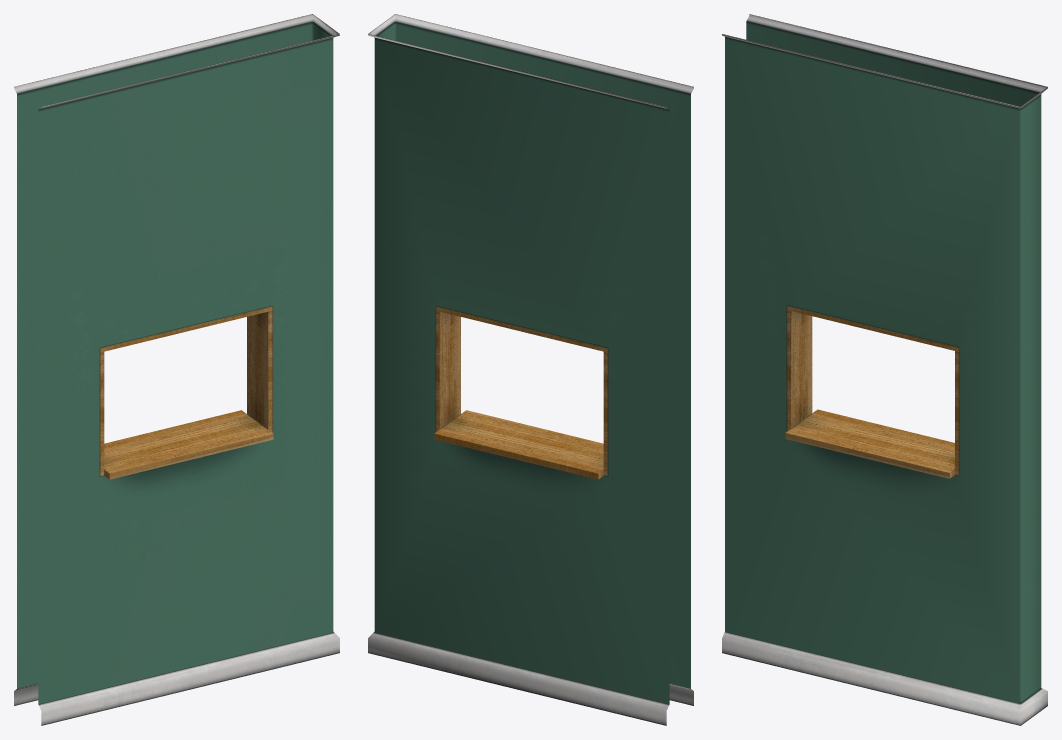
The model's file is livingroom_flat_hole.dae.
3 views of the same model, side by side, from view 1: azimuth 30°, elevation 25°; view 2: azimuth 150°, elevation 25°; view 3: azimuth 330°, elevation 25° (orthographic).
Visible parts, largest first — view 1: pCube4; view 2: pCube4; view 3: pCube4.
Boxes of the visible parts, box(x1,y1,x2,y2) form: pCube4: box(14, 14, 339, 725); pCube4: box(368, 14, 693, 725); pCube4: box(722, 14, 1047, 725).
Size of the model in its own units: 2.02 by 4 by 0.375.
